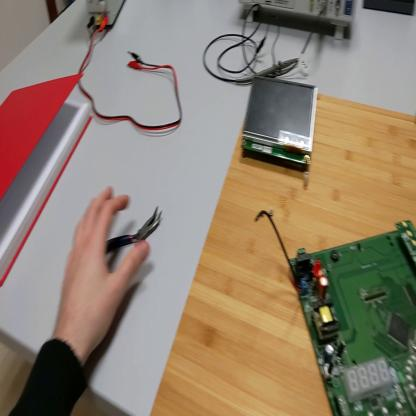hand: (58, 187, 149, 350)
low voltage board: (251, 210, 416, 415)
oscilloscope: (240, 1, 356, 39)
pliers: (113, 205, 166, 259)
power supply: (87, 2, 125, 27)
register: (2, 73, 92, 288)
working area: (150, 95, 416, 414)
